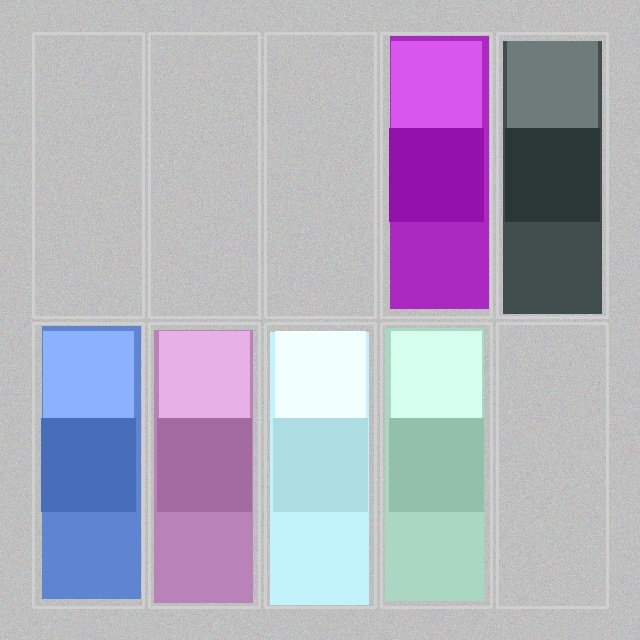space-empty: (35, 35, 141, 315), (151, 35, 257, 315), (267, 35, 373, 315), (499, 325, 605, 605)
space-occupied: (383, 35, 489, 315), (499, 35, 605, 315), (35, 325, 141, 605), (151, 325, 257, 605), (267, 325, 373, 605), (383, 325, 489, 605)
